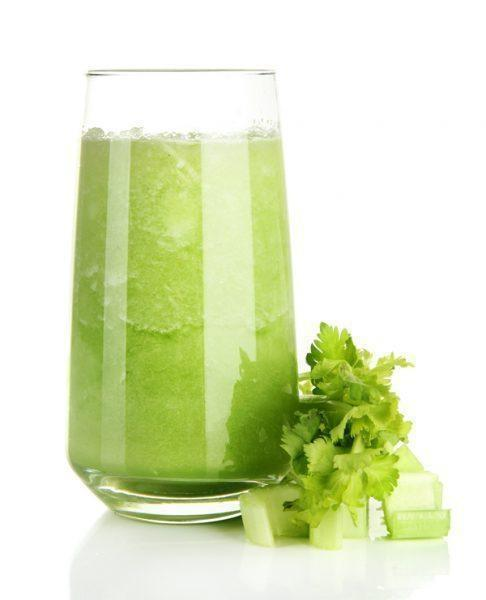glass-normal: (65, 62, 303, 523)
